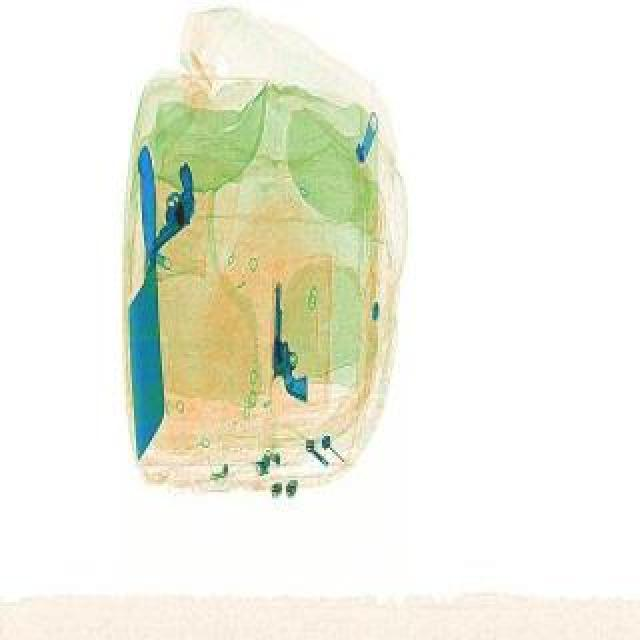gun: (118, 158, 222, 248), (272, 280, 308, 400)
knife: (124, 142, 164, 456)
